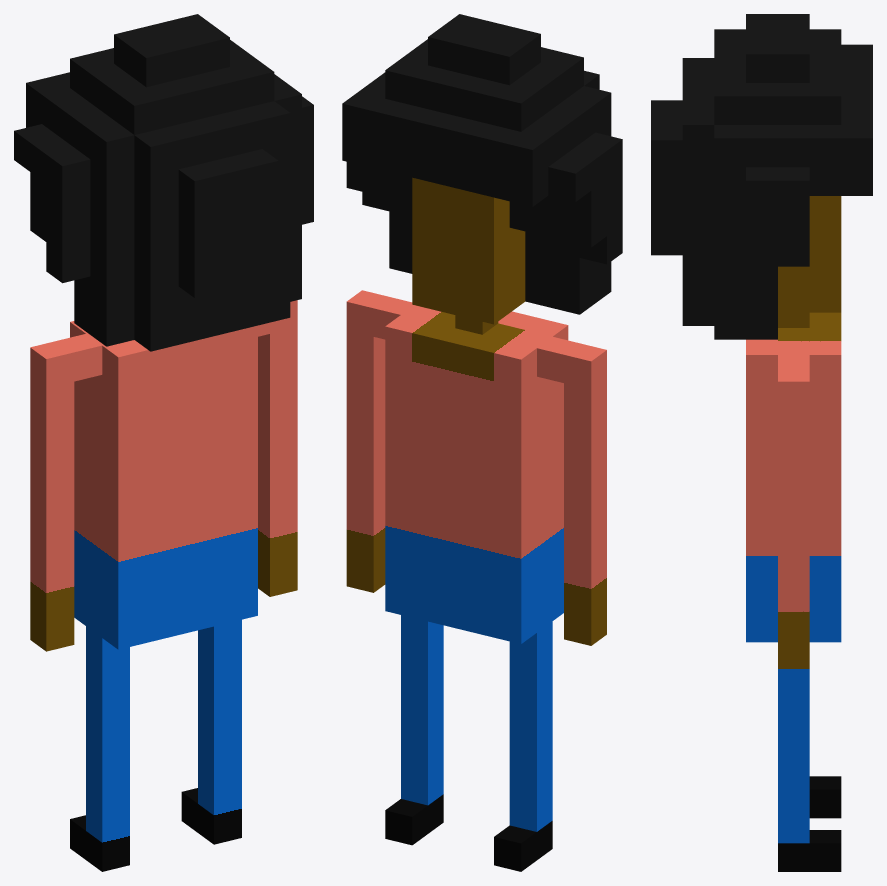
Rendered from Person5.dae.
The picture shows the model from 3 angles, left to right: view 1: azimuth 30°, elevation 25°; view 2: azimuth 150°, elevation 25°; view 3: azimuth 270°, elevation 25°; orthographic projection. The views are drawn at different scales.
Visible parts, largest first — view 1: Person1; view 2: Person1; view 3: Person1.
Boxes of the visible parts, bbox=[...] form: Person1: bbox=[14, 14, 313, 871]; Person1: bbox=[342, 14, 622, 871]; Person1: bbox=[651, 14, 872, 871].
Size of the model in its own units: 9 by 28 by 7.
1 material, 1 textured.
